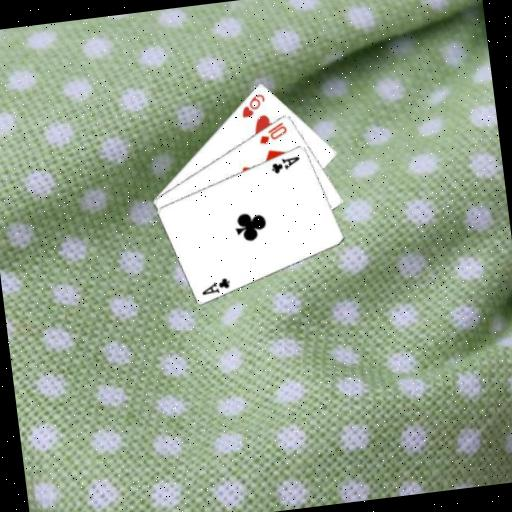10D: (254, 118, 290, 146)
6H: (236, 90, 268, 120)
AC: (267, 153, 303, 176), (197, 274, 233, 297)
